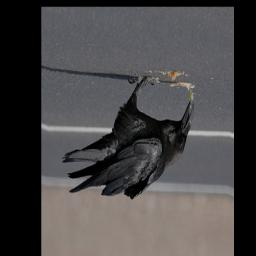Crow: (60, 60, 195, 217)
